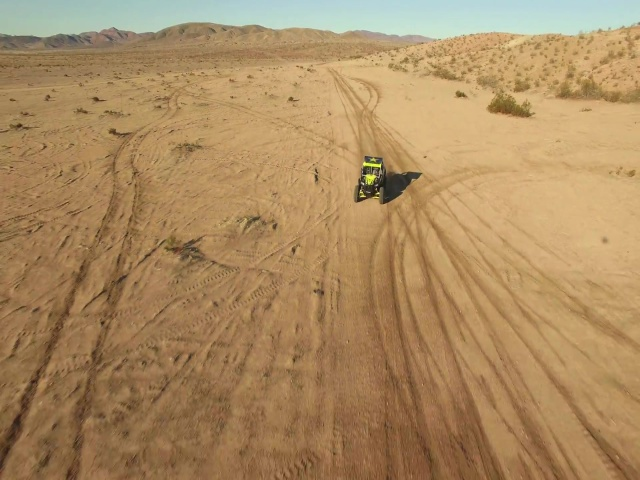vehicle: (354, 155, 387, 204)
